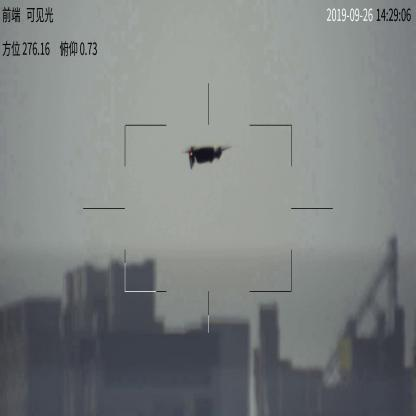uav: (180, 142, 230, 168)
